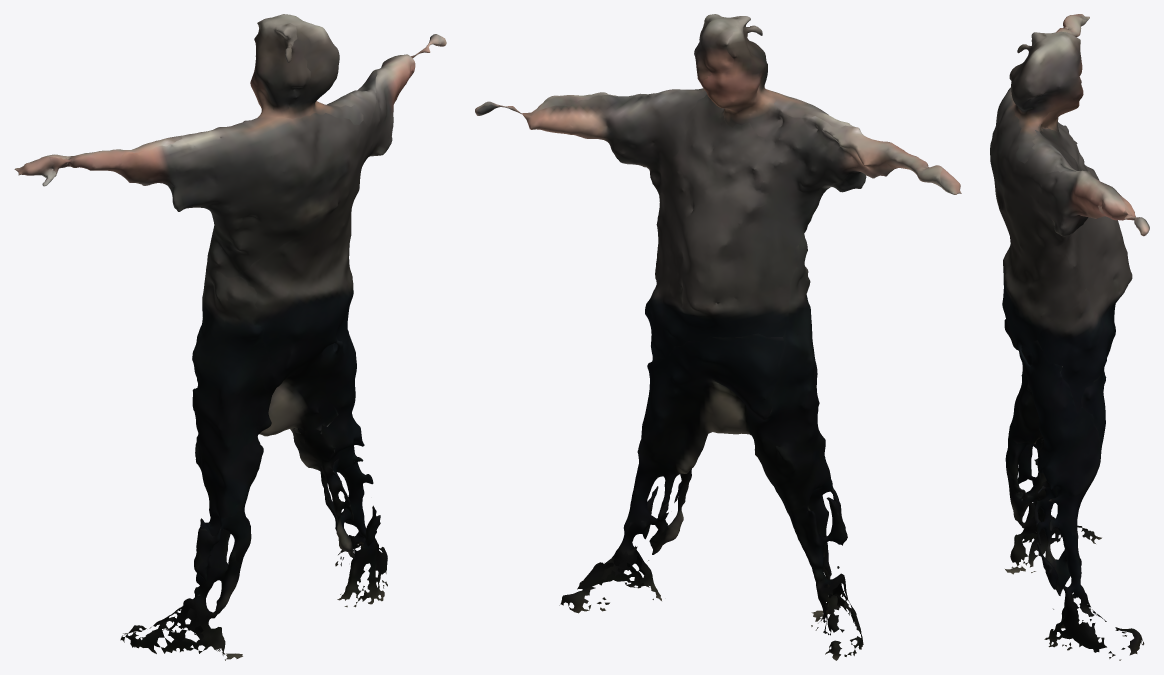
3 renders of one model, left to right at view 1: azimuth 30°, elevation 25°; view 2: azimuth 150°, elevation 25°; view 3: azimuth 270°, elevation 25°, orthographic. The views are drawn at different scales.
Parts seen in each view (by area): view 1: 3DModel; view 2: 3DModel; view 3: 3DModel.
Part boxes in pixels (x1,y1,x2,y2): 3DModel: (14,14,446,660); 3DModel: (475,14,961,660); 3DModel: (990,14,1149,660).
Size of the model in its own units: 168 by 211 by 53.56.
Materials: 1 (1 with a texture image).
